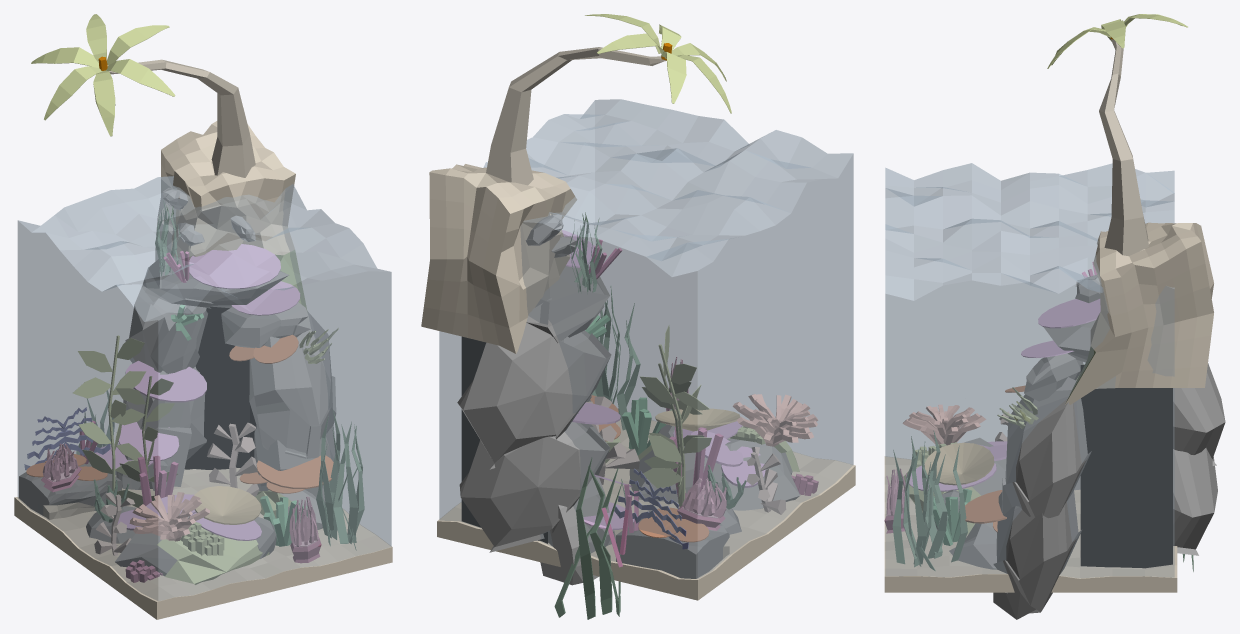
File: Above and Below.fbx
3 renders of one model, left to right at view 1: azimuth 30°, elevation 25°; view 2: azimuth 150°, elevation 25°; view 3: azimuth 270°, elevation 25°, orthographic. The views are drawn at different scales.
Parts seen in each view (by area): view 1: pCube15, pCube1, pCube12, LP_Rock_17:pSphere1, pasted__pCube13, LP_Rock_14:pSphere1, LP_Rock_24:pSphere1, pCylinder5, LP_Rock_19:LP_Rock_3:pasted__pasted__pasted__pCylinder2, LP_Rock_15:pSphere1, pCube4, LP_Rock_16:pSphere1 (+24 smaller); view 2: pCube15, pCube12, LP_Rock_14:pSphere1, pCube1, LP_Rock_13:pSphere1, pCylinder5, LP_Rock_24:pSphere1, pCube4, LP_Rock_15:pSphere1, pasted__pCube4, pasted__pCube13, pasted__pasted__pCube5 (+13 smaller); view 3: pCube15, pCube12, pasted__pCube13, pCube1, LP_Rock_17:pSphere1, LP_Rock_18:pSphere1, pCylinder5, LP_Rock_13:pSphere1, LP_Rock_14:pSphere1, pasted__pasted__pCylinder2, LP_Rock_16:pSphere1, LP_Rock_26:pSphere1 (+12 smaller).
Boxes of the visible parts, bbox=[...] form: pCube15: bbox=[17, 176, 391, 601]; pCube1: bbox=[14, 468, 392, 619]; pCube12: bbox=[155, 121, 306, 309]; LP_Rock_17:pSphere1: bbox=[249, 311, 335, 458]; pasted__pCube13: bbox=[184, 306, 256, 469]; LP_Rock_14:pSphere1: bbox=[125, 285, 207, 373]; LP_Rock_24:pSphere1: bbox=[115, 513, 269, 584]; pCylinder5: bbox=[98, 56, 255, 177]; LP_Rock_19:LP_Rock_3:pasted__pasted__pasted__pCylinder2: bbox=[189, 244, 280, 289]; LP_Rock_15:pSphere1: bbox=[143, 256, 288, 308]; pCube4: bbox=[19, 462, 121, 519]; LP_Rock_16:pSphere1: bbox=[221, 302, 310, 347]; pCube15: bbox=[439, 99, 853, 578]; pCube12: bbox=[421, 164, 576, 353]; LP_Rock_14:pSphere1: bbox=[457, 298, 611, 469]; pCube1: bbox=[437, 419, 855, 600]; LP_Rock_13:pSphere1: bbox=[459, 413, 609, 552]; pCylinder5: bbox=[486, 43, 672, 185]; LP_Rock_24:pSphere1: bbox=[629, 436, 800, 510]; pCube4: bbox=[616, 510, 729, 578]; LP_Rock_15:pSphere1: bbox=[526, 266, 609, 342]; pasted__pCube4: bbox=[540, 477, 615, 585]; pasted__pCube13: bbox=[461, 336, 547, 543]; pasted__pasted__pCube5: bbox=[576, 457, 595, 619]; pCube15: bbox=[885, 163, 1174, 578]; pCube12: bbox=[1065, 222, 1213, 404]; pasted__pCube13: bbox=[1080, 365, 1172, 568]; pCube1: bbox=[884, 456, 1177, 592]; LP_Rock_17:pSphere1: bbox=[1002, 377, 1091, 518]; LP_Rock_18:pSphere1: bbox=[993, 491, 1081, 619]; pCylinder5: bbox=[1099, 37, 1148, 256]; LP_Rock_13:pSphere1: bbox=[1173, 448, 1217, 555]; LP_Rock_14:pSphere1: bbox=[1173, 363, 1225, 465]; pasted__pasted__pCylinder2: bbox=[924, 442, 994, 485]; LP_Rock_16:pSphere1: bbox=[1024, 353, 1083, 401]; LP_Rock_26:pSphere1: bbox=[949, 522, 1007, 593].
Bounding box in the file's own units: 29.72 × 56.74 × 32.73.
